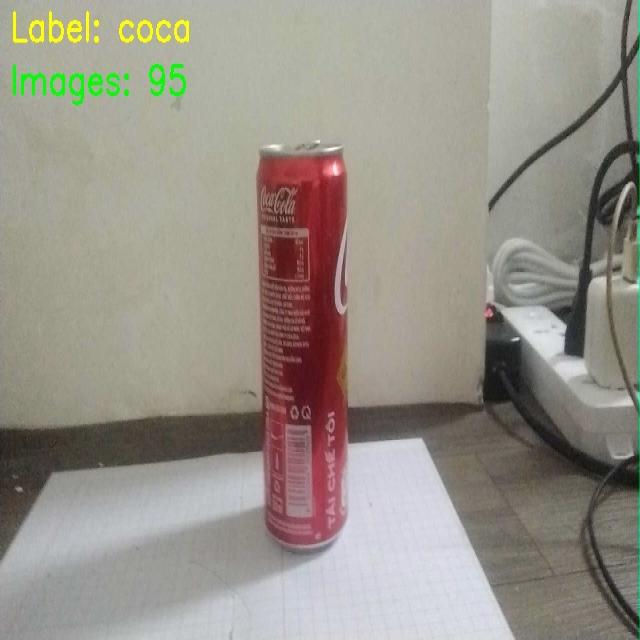Coca: (242, 135, 386, 567)
